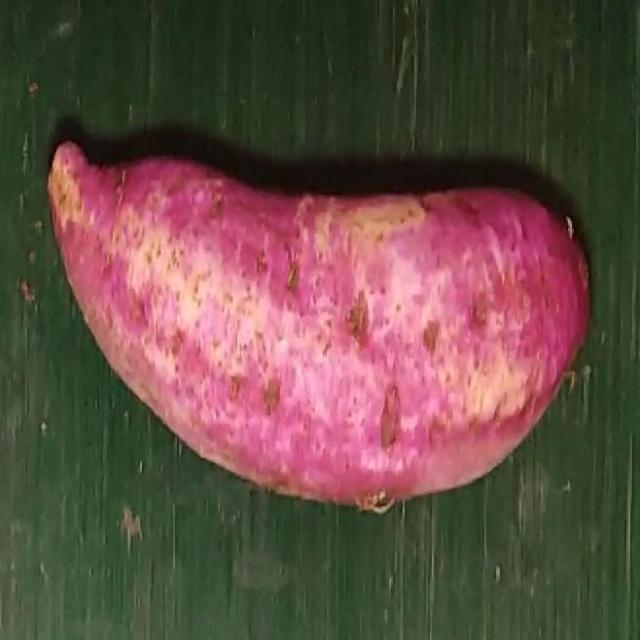Sweet Potato: (45, 139, 591, 513)
